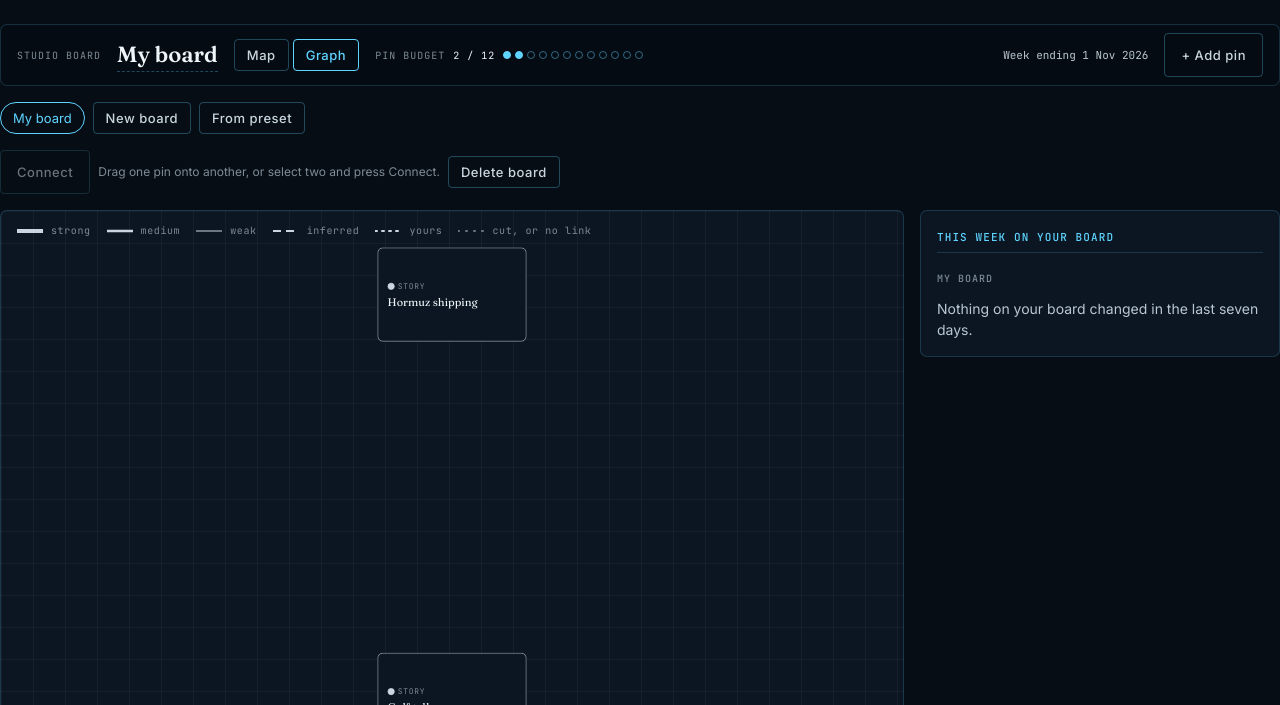
Test: pin budget › adds a followed story as a pin and saves
Expected: the text "2 / 12" is shown, [453,48,495,62]
Click the button "+ Add pin": (1214, 55) [1164,33,1263,77]
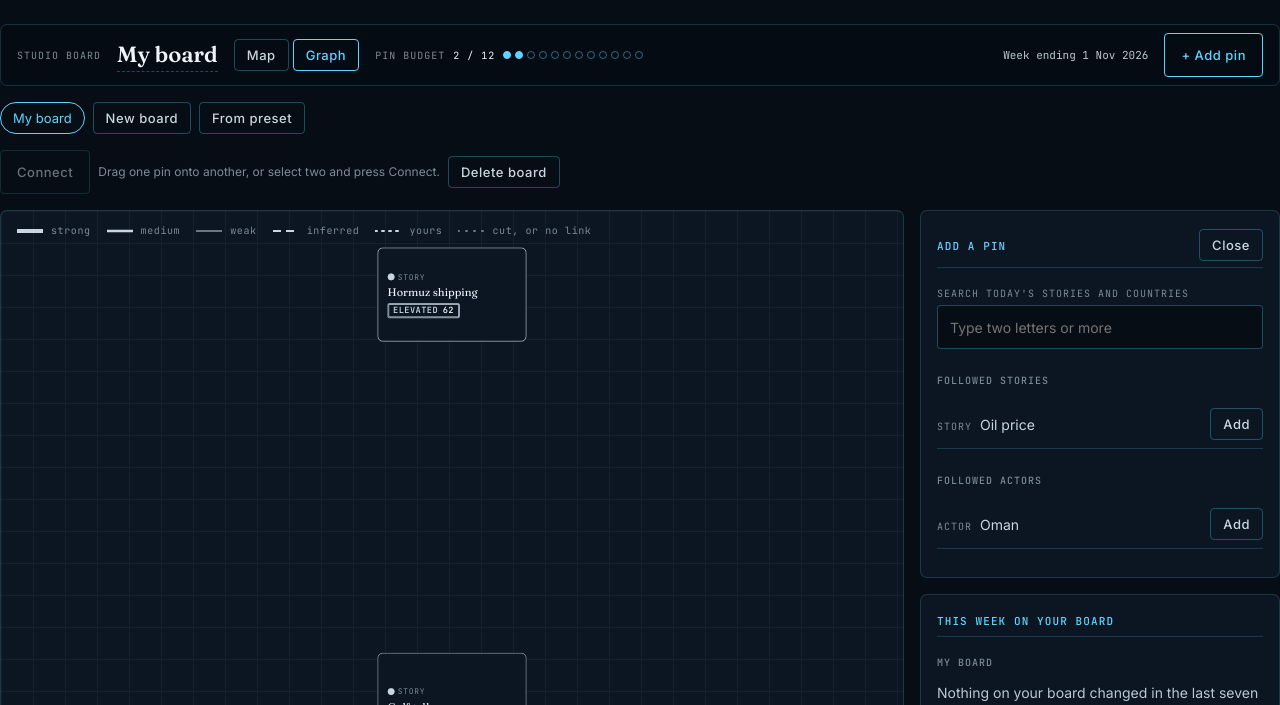
Click the button with aria-label "Add Oil price": (1237, 424) [1210,408,1263,440]
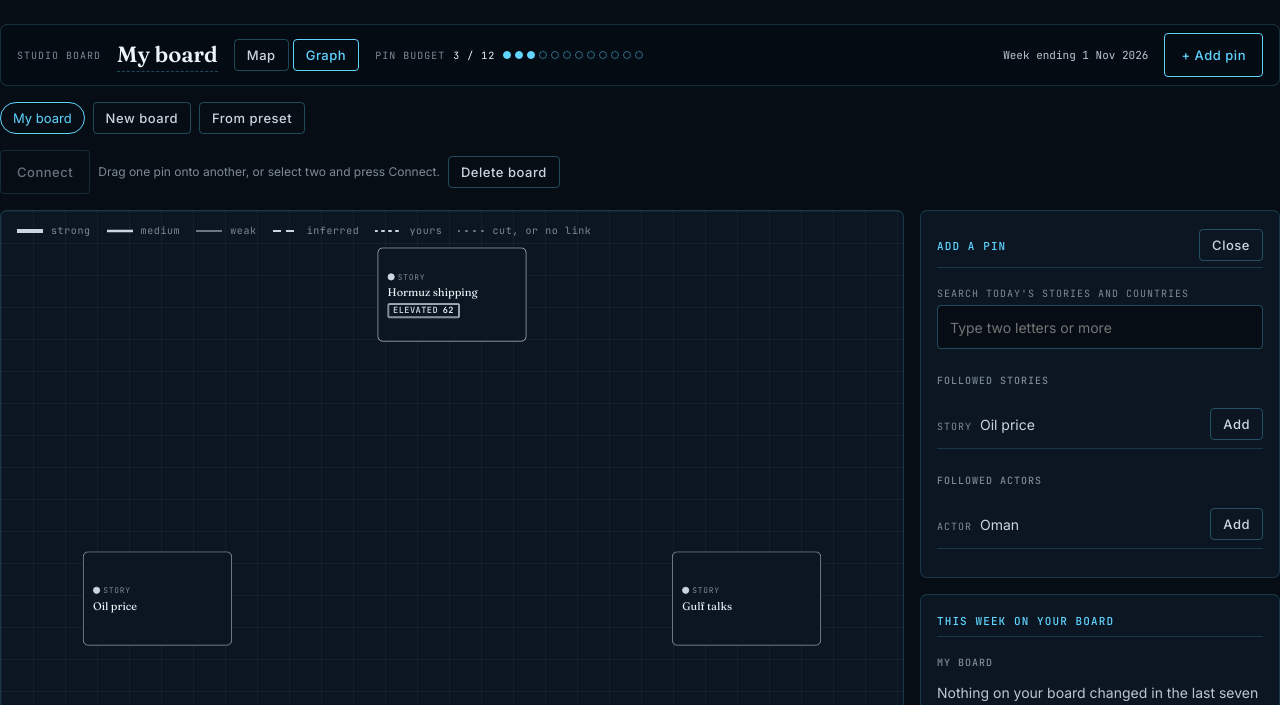
Expected: the text "3 / 12" is shown, [453,48,495,62]
